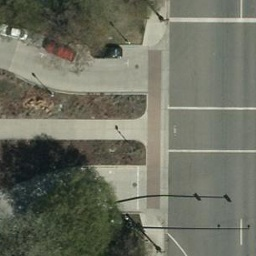car: (43, 38, 76, 63), (1, 22, 29, 41), (90, 44, 125, 59)
